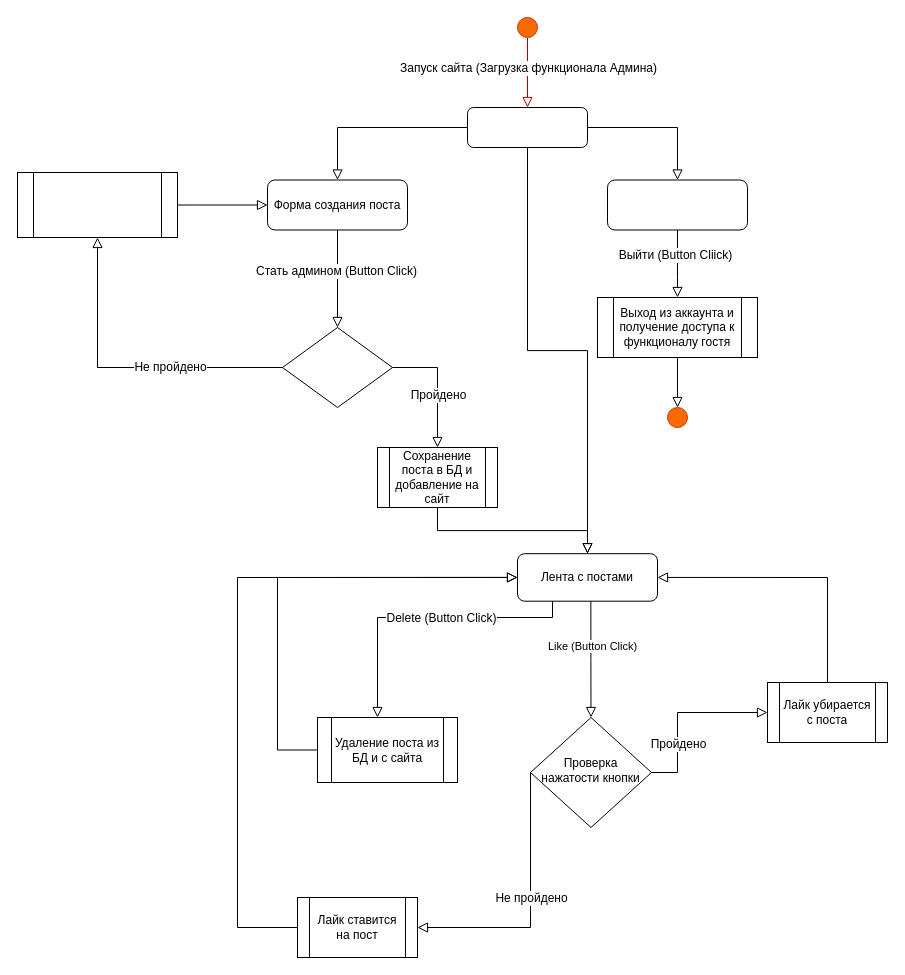
The diagram is 905 pixels wide and 975 high, and some of its shapes have lost their labels. The shapes that lost their labels are listed below. From the top down, each one's box as (x1, y1, x2, y2) in pixels, then its label:
(466, 106, 588, 148): Страница сайта
(16, 172, 178, 238): Появление поля с сообщением о неправильном вводе данных
(606, 179, 748, 230): Пользовательский интерфейс
(282, 326, 392, 408): Проверка корректности ввода данных
